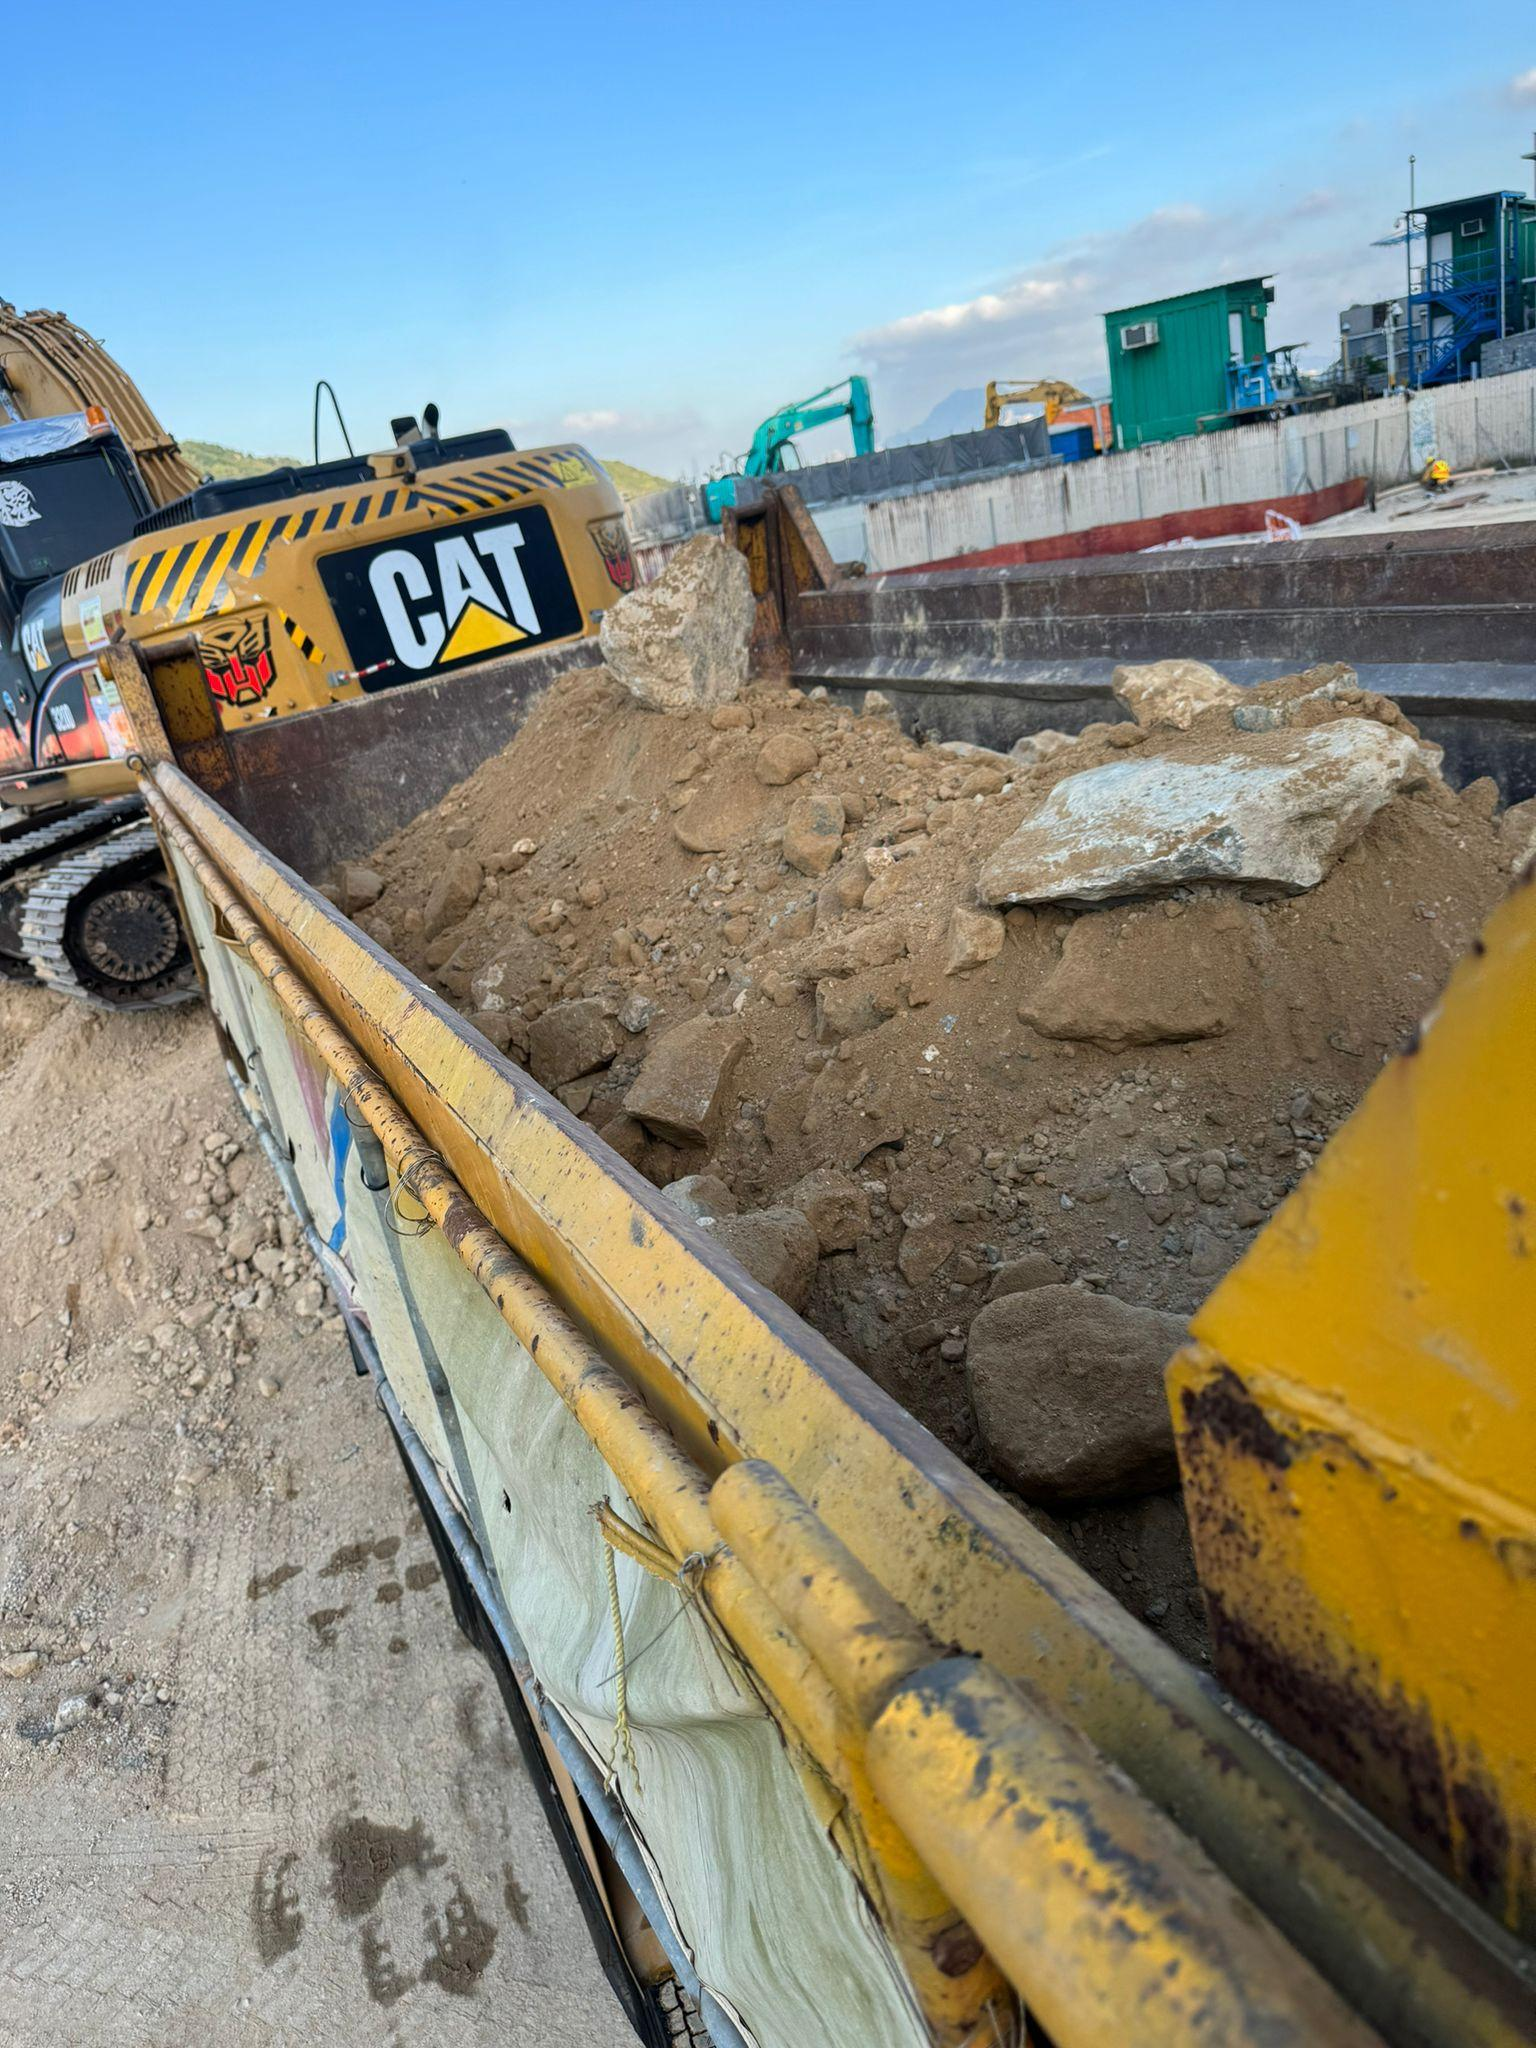dry: (340, 563, 1533, 1424)
